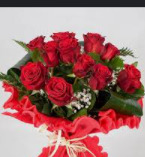RedRose: (44, 77, 73, 107), (21, 58, 46, 91), (119, 65, 142, 92), (90, 66, 117, 88), (61, 35, 78, 62), (74, 55, 91, 80), (39, 42, 57, 65), (97, 43, 118, 62), (86, 33, 106, 52), (52, 29, 74, 46), (26, 36, 46, 52)
